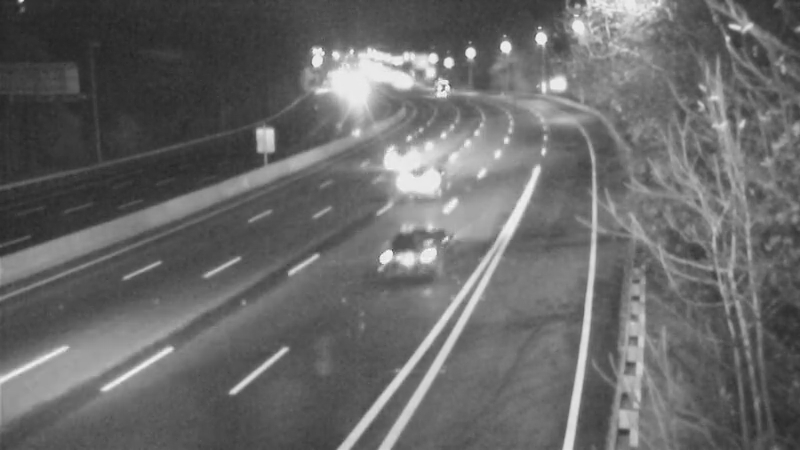vehicle: (355, 124, 435, 204), (388, 145, 468, 225), (373, 209, 453, 289)
